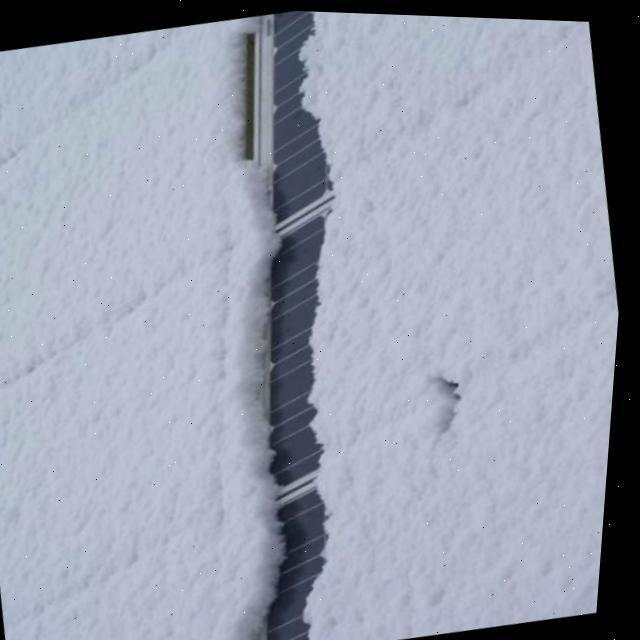Anomaly Solar Panel: (254, 39, 623, 503), (0, 16, 254, 640), (262, 331, 622, 640), (251, 8, 591, 241)
Snow: (293, 9, 623, 640), (0, 18, 272, 421), (0, 247, 267, 640), (0, 17, 256, 221), (3, 511, 239, 640)
